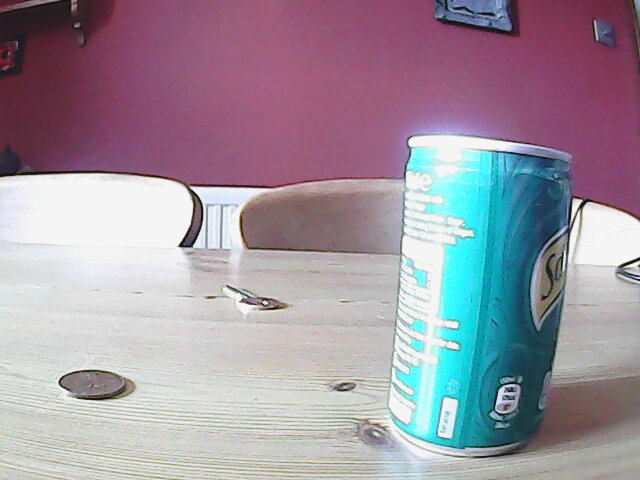Can: (386, 128, 577, 464)
Coin: (54, 365, 130, 402)
Key: (213, 279, 283, 316)
